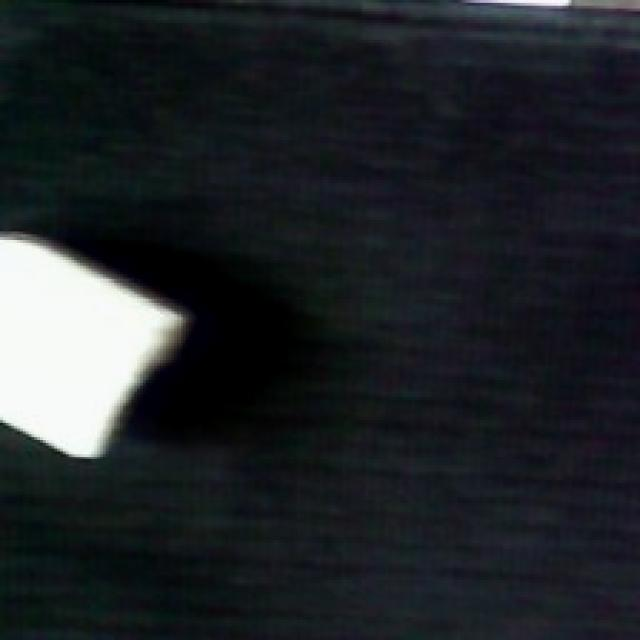defected: (0, 226, 200, 471)
